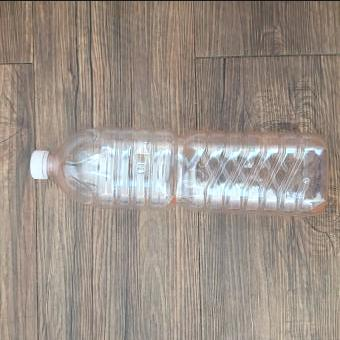bottle: (29, 128, 330, 217)
